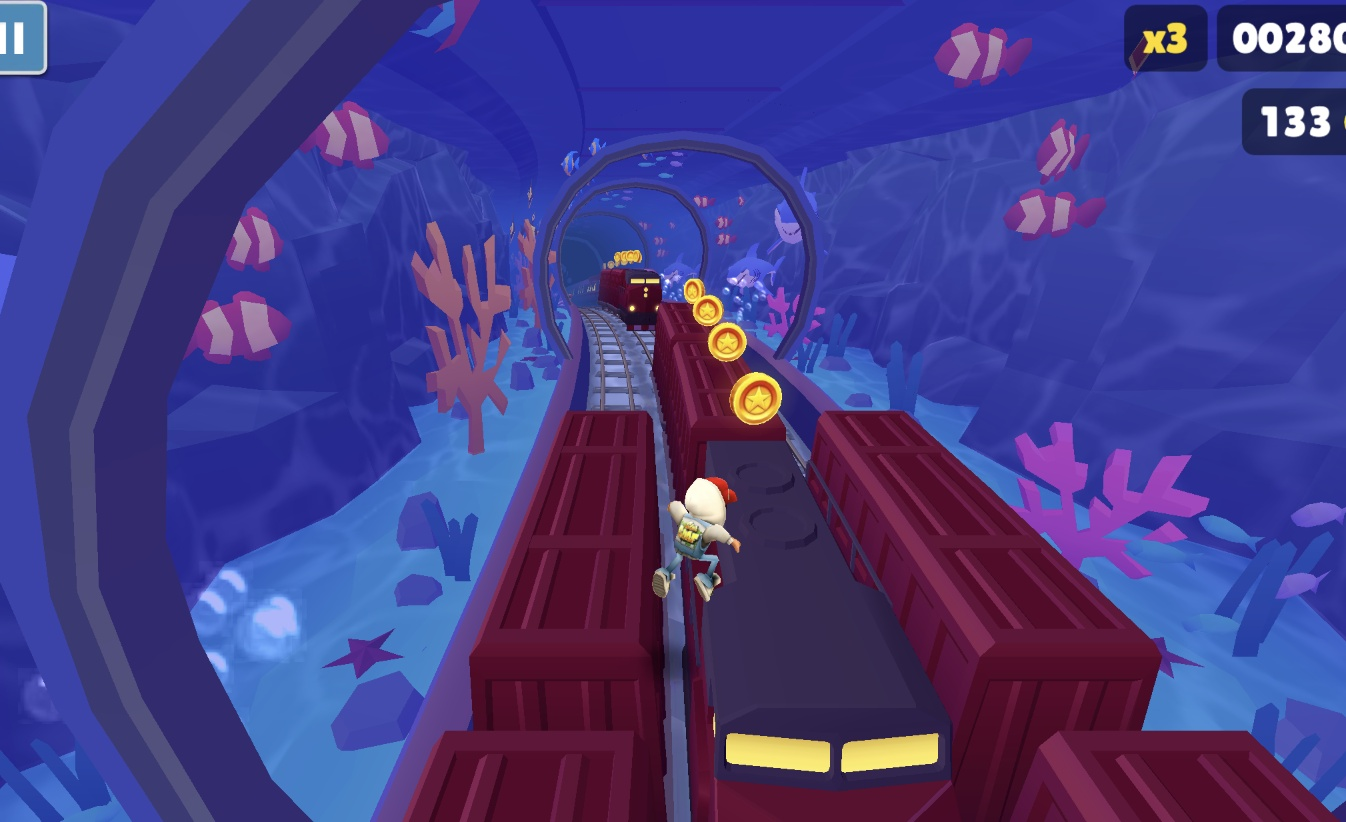train: (811, 409, 1346, 822), (400, 409, 670, 822), (685, 439, 952, 822), (649, 302, 791, 500), (598, 268, 661, 331)
